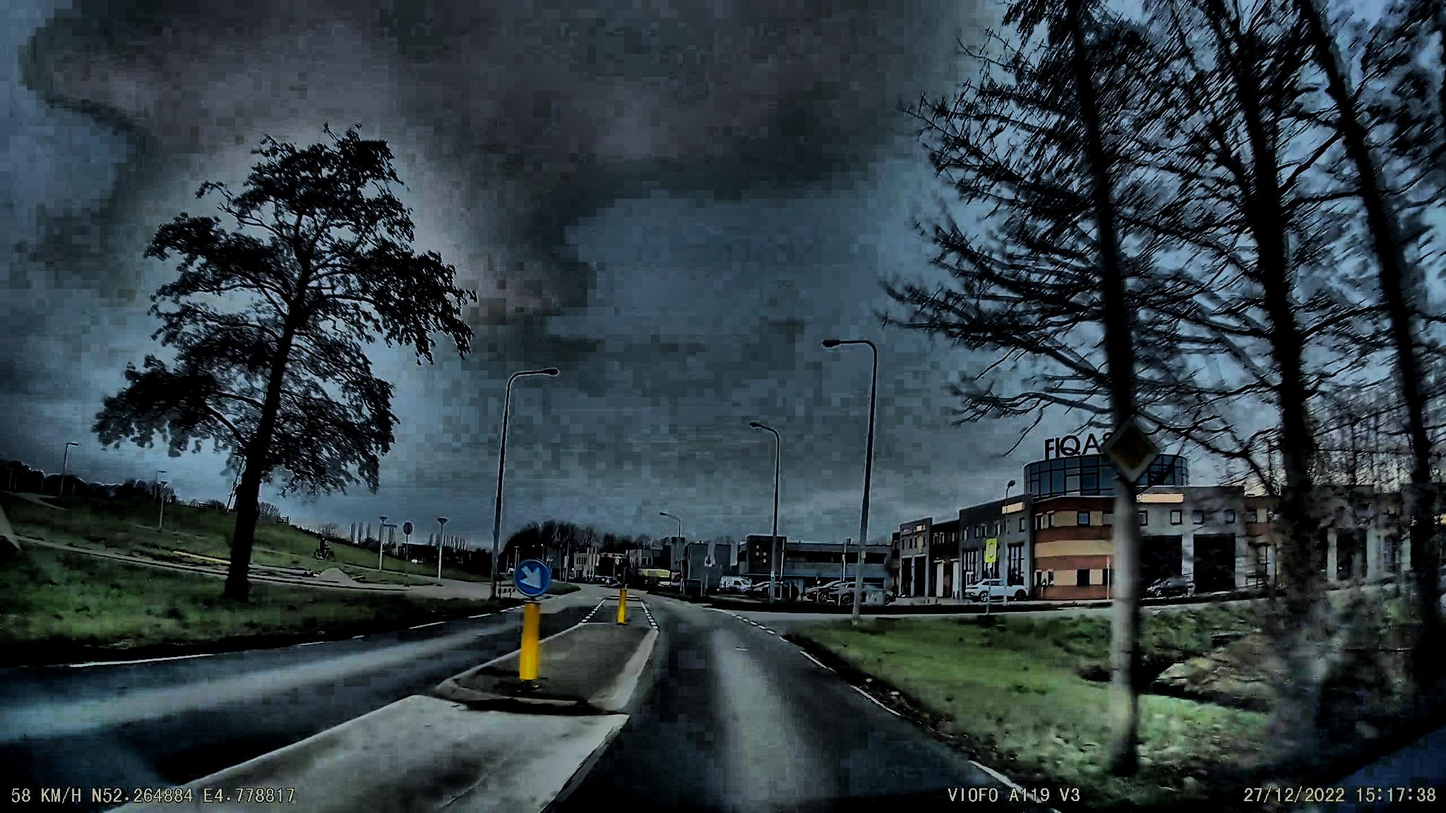Roads: (0, 593, 1078, 813)
